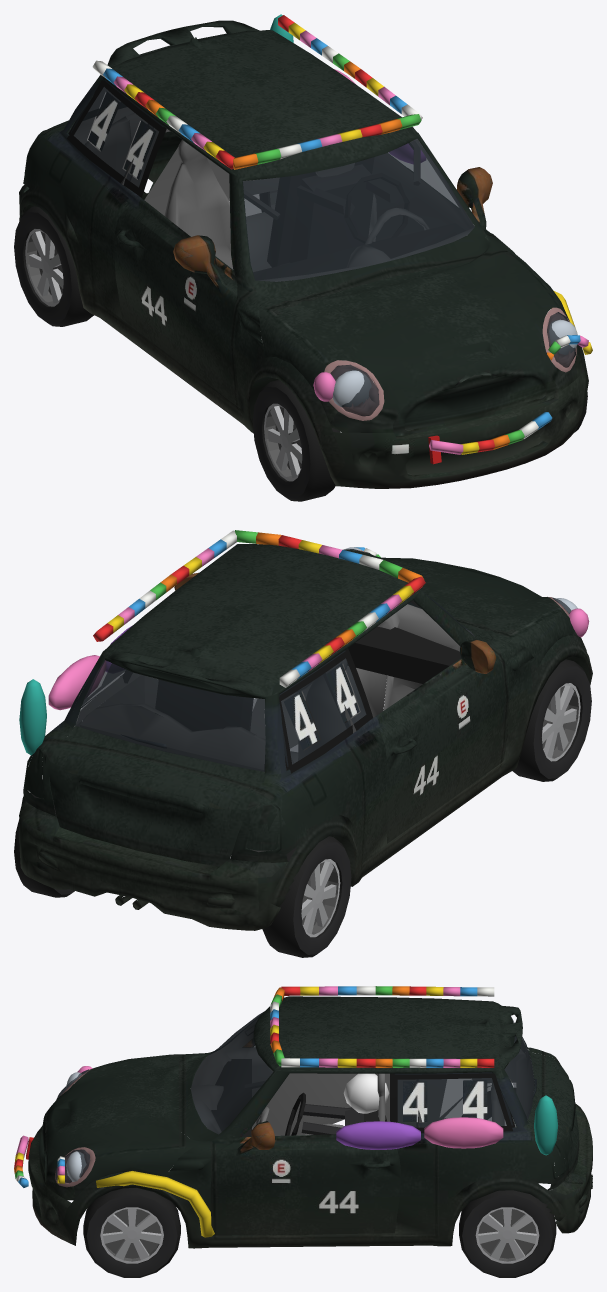
The picture shows the model from 3 angles, top to bottom: view 1: azimuth 30°, elevation 25°; view 2: azimuth 150°, elevation 25°; view 3: azimuth 270°, elevation 25°; orthographic projection. The views are drawn at different scales.
Parts seen in each view (by area): view 1: body, wheel_fr, wheel_rr; view 2: body, wheel_rr, wheel_fr, wheel_rl; view 3: body, wheel_fl, wheel_rl.
Part boxes in pixels (x1,y1,x2,y2): body: (19, 14, 592, 488); wheel_fr: (252, 380, 339, 501); wheel_rr: (14, 206, 93, 326); body: (19, 530, 592, 930); wheel_rr: (262, 836, 351, 957); wheel_fr: (506, 659, 591, 781); wheel_rl: (14, 779, 74, 897); body: (14, 986, 592, 1248); wheel_fl: (83, 1188, 180, 1277); wheel_rl: (459, 1190, 556, 1277).
Size of the model in its own units: 1.88 by 1.49 by 3.81.
Materials: 3 (2 with a texture image).
